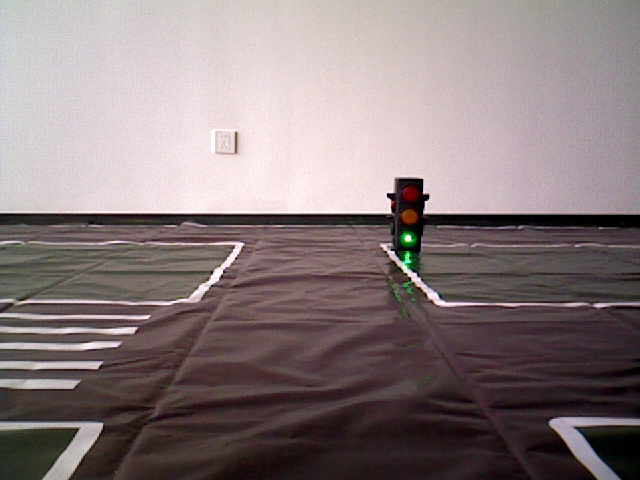green: (393, 178, 419, 248)
